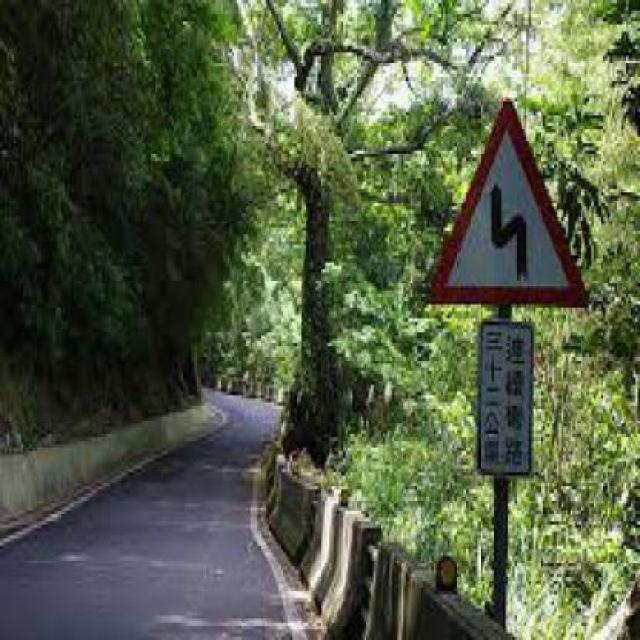warn_double_curve: (425, 105, 599, 316)
